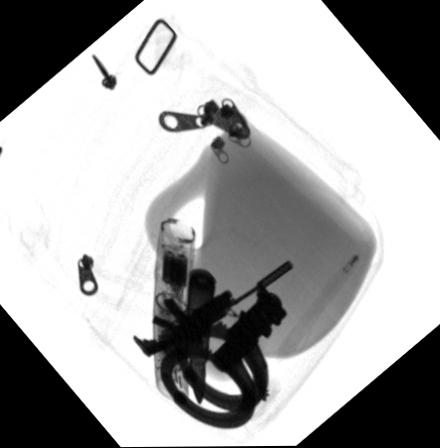Baton: (152, 218, 192, 402)
Bullet: (183, 268, 216, 408)
Gun: (131, 259, 294, 356)
HandCuffs: (156, 287, 288, 430)
